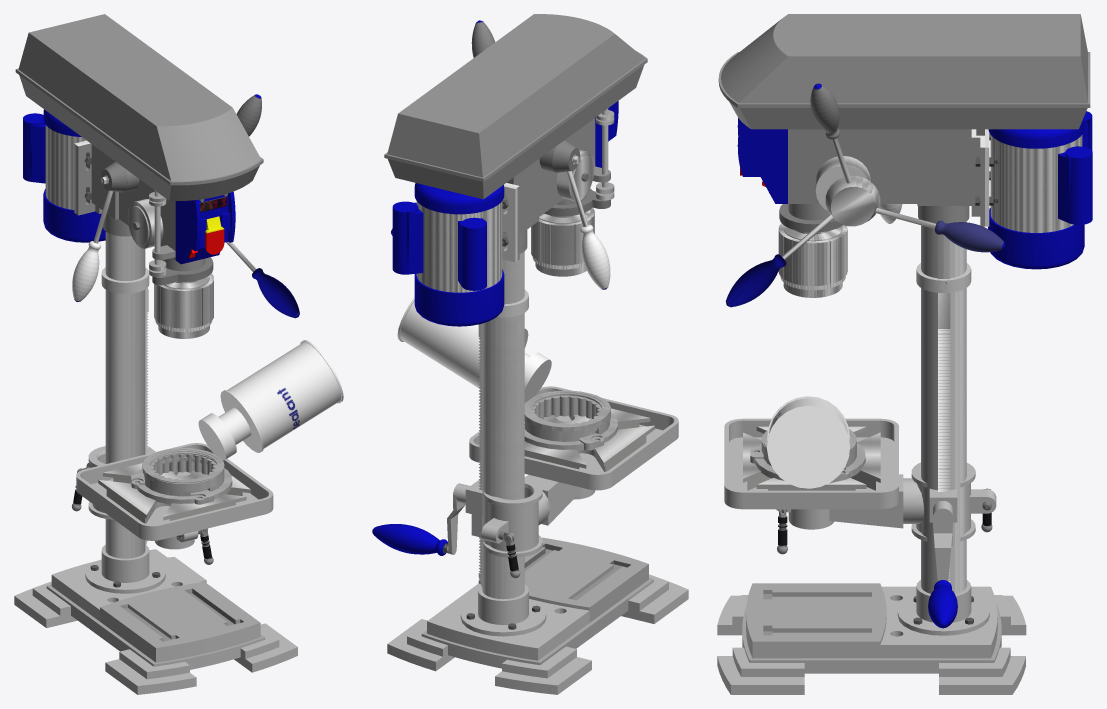
3 renders of one model, left to right at view 1: azimuth 30°, elevation 25°; view 2: azimuth 150°, elevation 25°; view 3: azimuth 270°, elevation 25°, orthographic. The views are drawn at different scales.
Parts seen in each view (by area): view 1: 01, 04, sealant f, 03, 1.001, 02.001, 2.001, 1; view 2: 01, 04, sealant f, 03, 1.001, 2.001, 02.001; view 3: 01, 04, 02.001, sealant f, 03, 1.001.
Part boxes in pixels (x1,y1,x2,y2): 01: [14, 14, 297, 694]; 04: [71, 443, 273, 564]; sealant f: [198, 340, 343, 460]; 03: [154, 273, 213, 338]; 1.001: [131, 448, 232, 504]; 02.001: [226, 94, 299, 318]; 2.001: [146, 450, 220, 492]; 1: [149, 451, 218, 492]; 01: [384, 14, 688, 694]; 04: [372, 386, 678, 578]; sealant f: [397, 297, 551, 402]; 03: [531, 207, 594, 276]; 1.001: [524, 390, 617, 450]; 2.001: [527, 392, 605, 434]; 02.001: [391, 20, 494, 235]; 01: [717, 14, 1092, 694]; 04: [724, 418, 996, 628]; 02.001: [725, 83, 1004, 307]; sealant f: [767, 396, 849, 488]; 03: [778, 223, 847, 297]; 1.001: [750, 429, 865, 483].
Bounding box in the file's own units: 546 × 1225 × 676.
39 materials, 12 textured.
